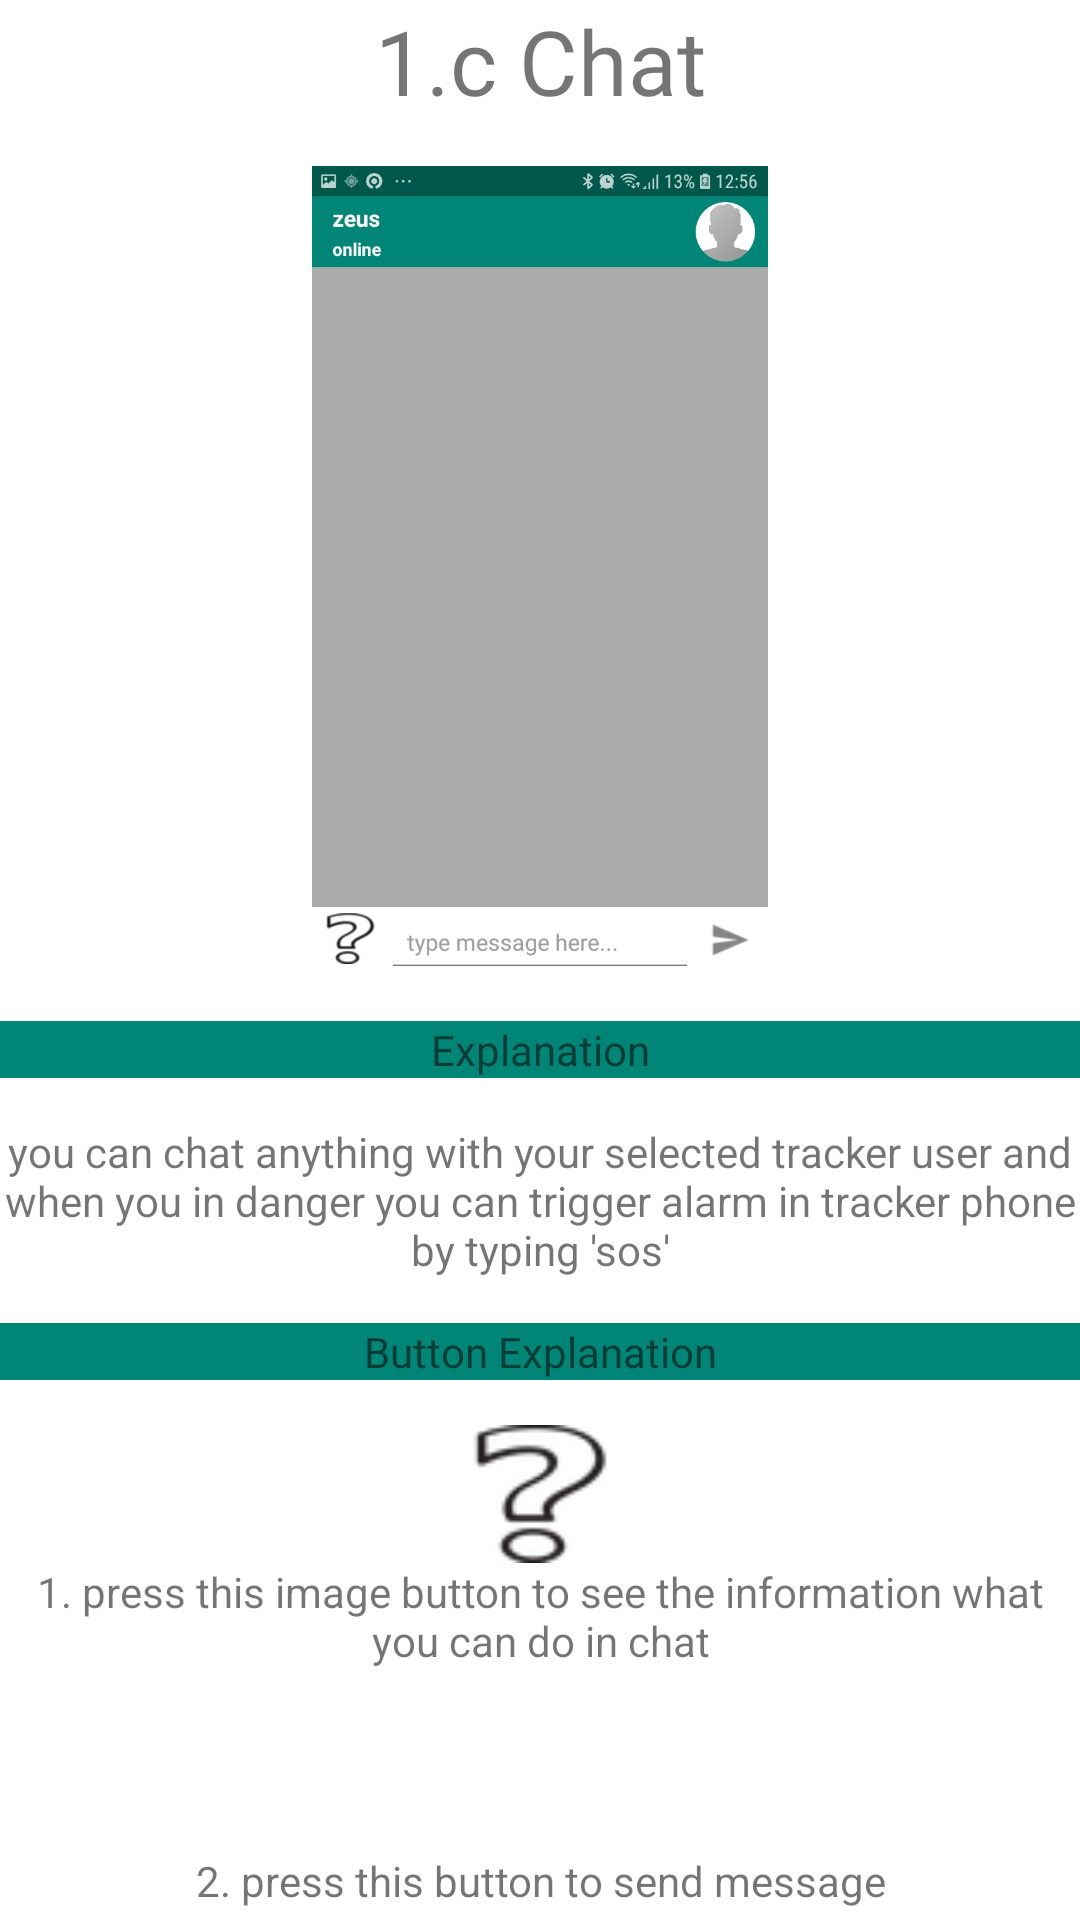

Screen size 1080w x 1920h. Icon name, then its box in pixels as (x1, y1, x2, y2):
questionmark: (475, 1425, 607, 1563)
